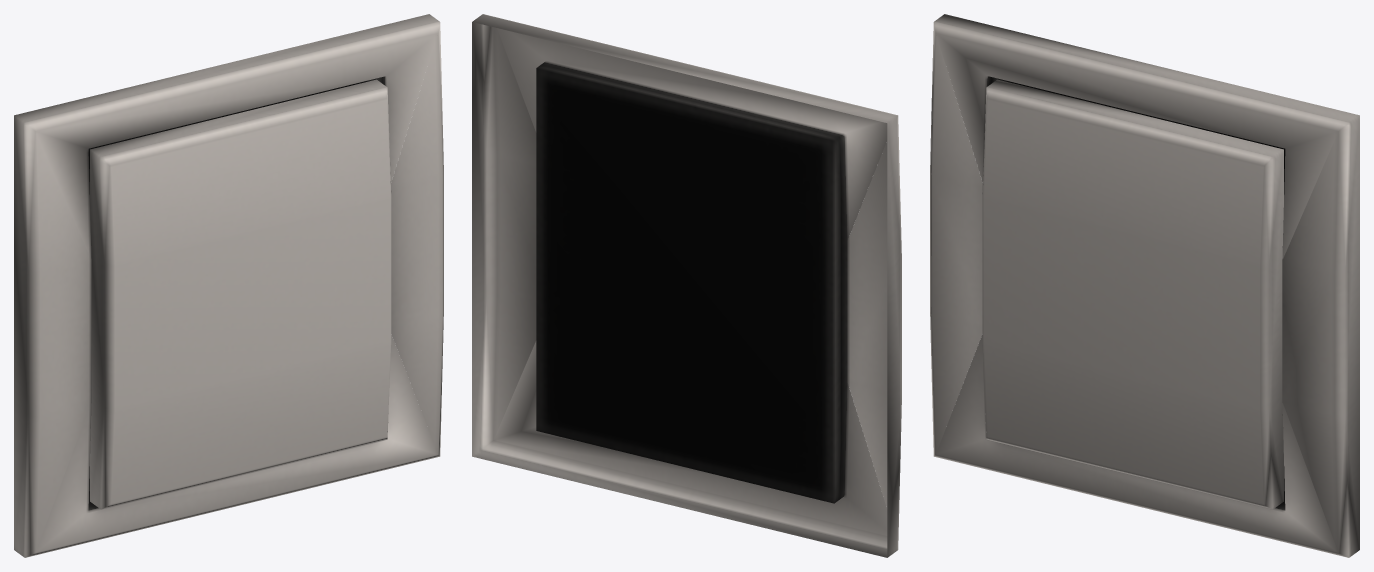
Rendered from lichtschalter.fbx.
3 views of the same model, side by side, from view 1: azimuth 30°, elevation 25°; view 2: azimuth 150°, elevation 25°; view 3: azimuth 330°, elevation 25° (orthographic).
Parts seen in each view (by area): view 1: wippe, lichtschalter; view 2: lichtschalter; view 3: wippe, lichtschalter.
Boxes of the visible parts, x1=… form: wippe: x1=90, y1=79, x2=391, y2=509; lichtschalter: x1=14, y1=14, x2=443, y2=557; lichtschalter: x1=472, y1=14, x2=901, y2=557; wippe: x1=982, y1=79, x2=1283, y2=509; lichtschalter: x1=930, y1=14, x2=1359, y2=557.
Bounding box in the file's own units: 8 × 8 × 1.02.
